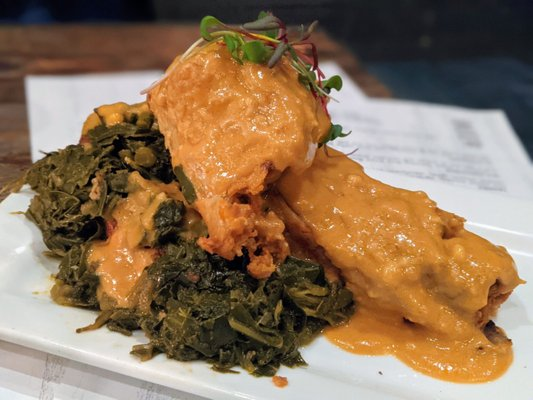soup: (13, 11, 527, 376), (11, 11, 355, 373)
